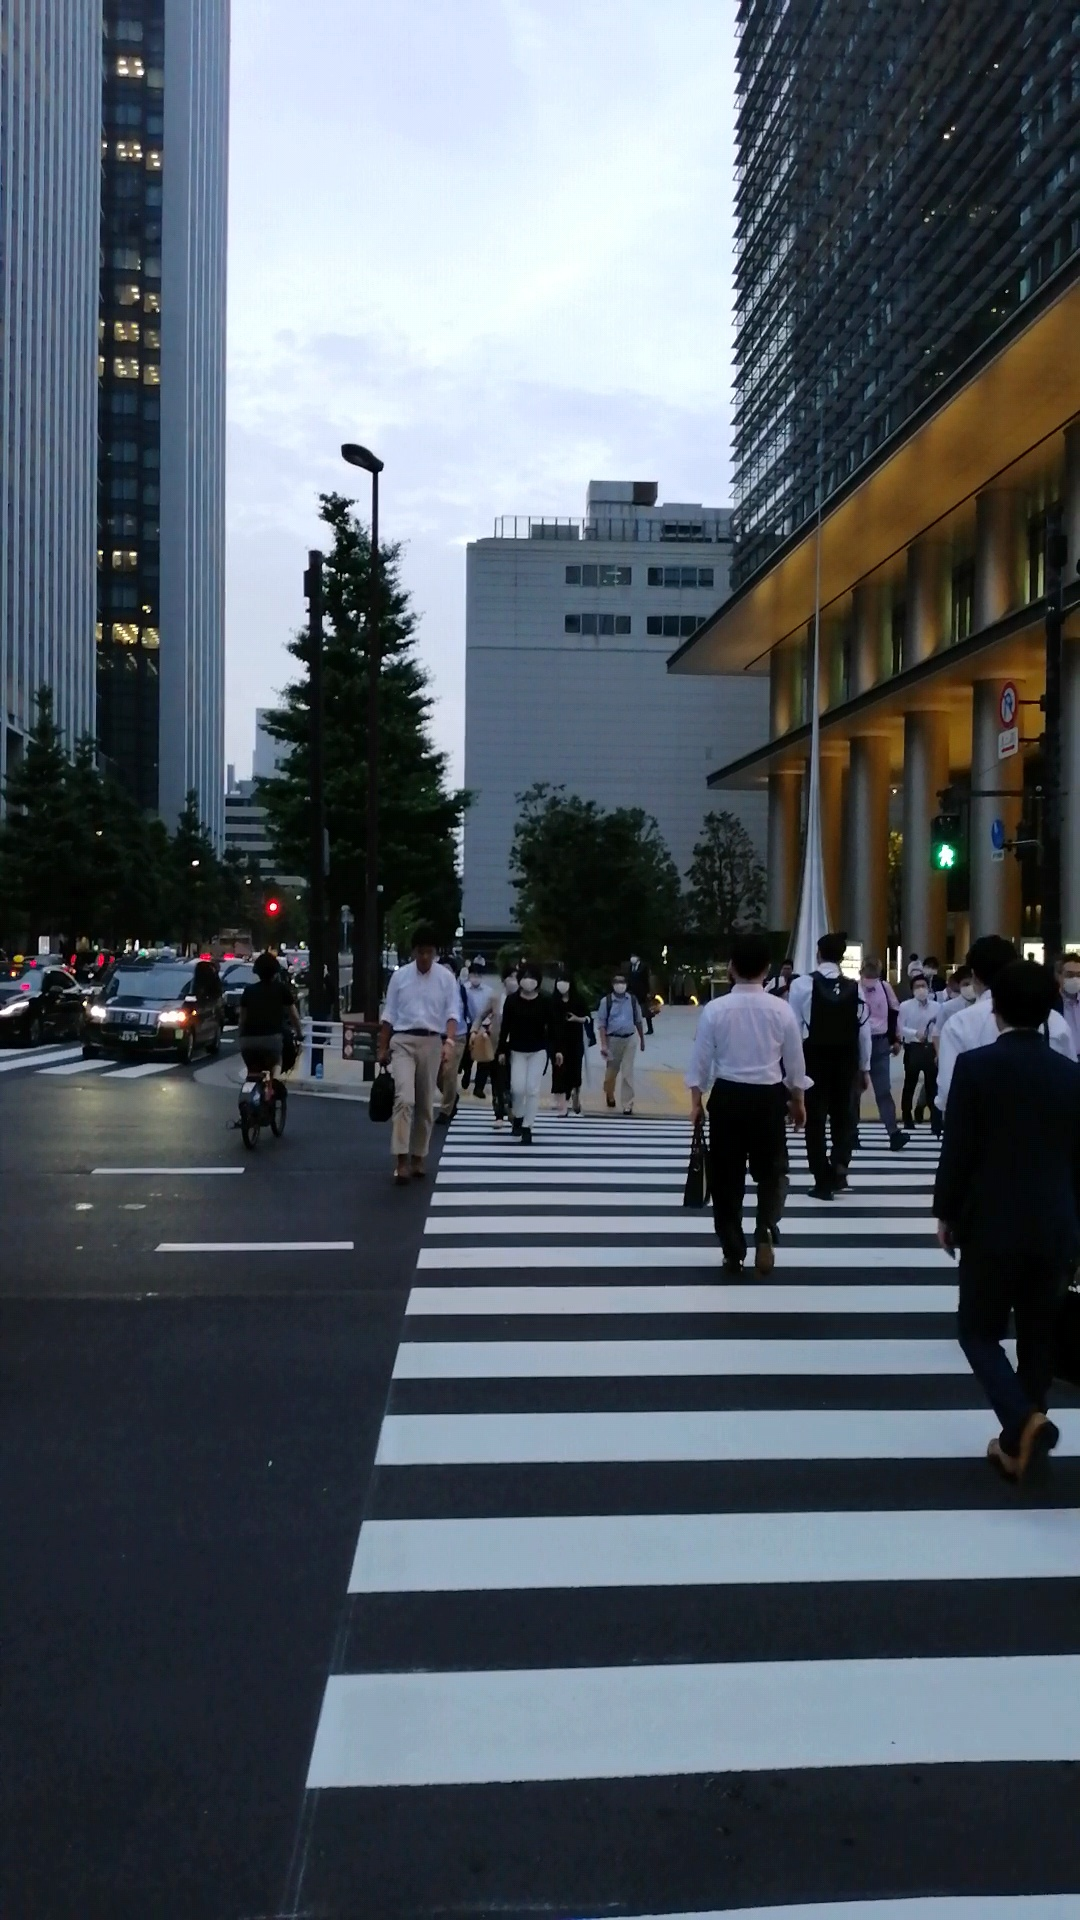green: (928, 814, 963, 876)
